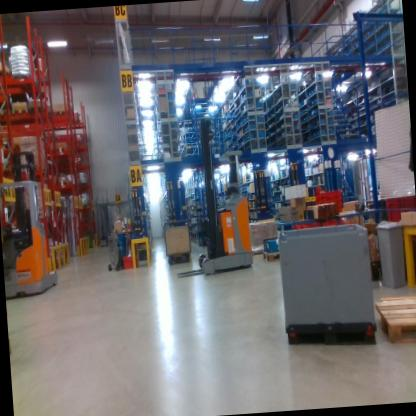forklift: (163, 105, 261, 283), (0, 146, 62, 303)
pallet: (377, 289, 416, 347), (28, 102, 50, 118), (262, 248, 285, 263), (11, 101, 29, 116), (0, 66, 10, 82)
small_load_carrier: (121, 253, 137, 268)
